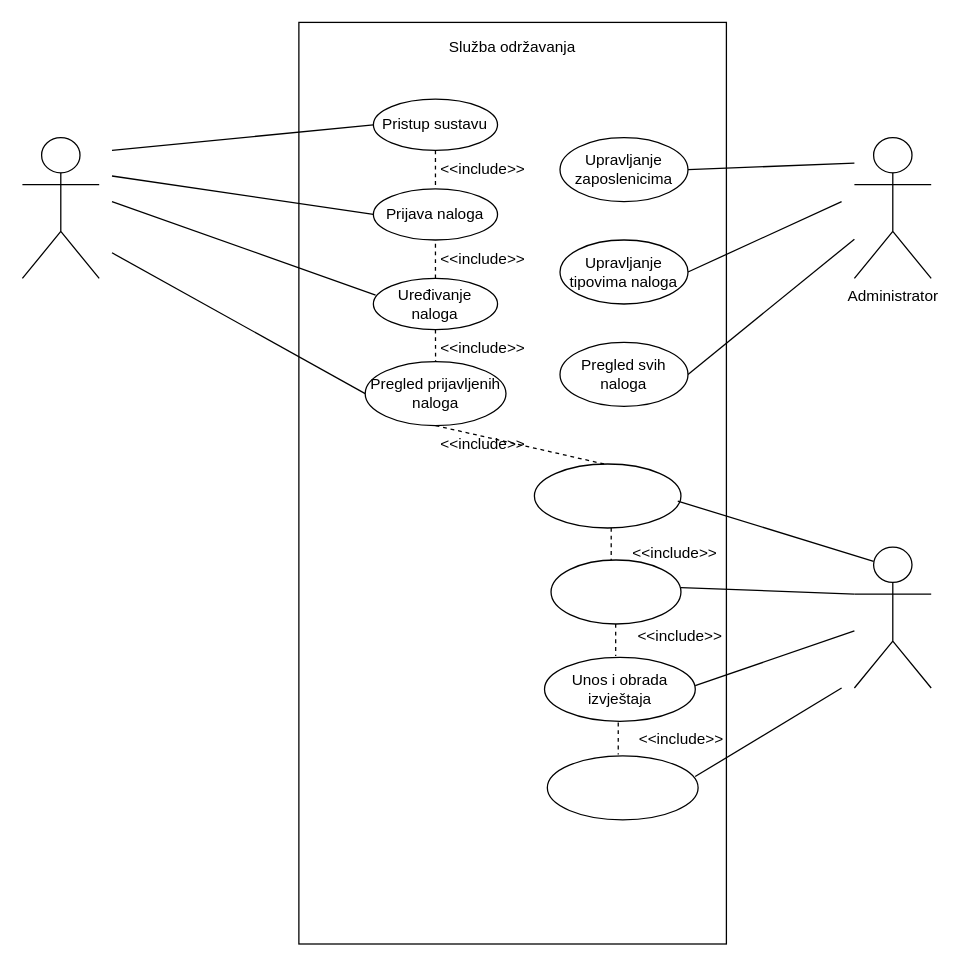
Some shapes in this 960 by 966 pixel diagram are drawn without their labels. Each missing label, with the centre of its shape:
Izvršitelj: the point at 892,617
Korisnik: the point at 60,207
Pregled dodijeljenih naloga: the point at 607,495
Pregled izvršenih naloga: the point at 622,787
Rad na nalogu: the point at 615,591
